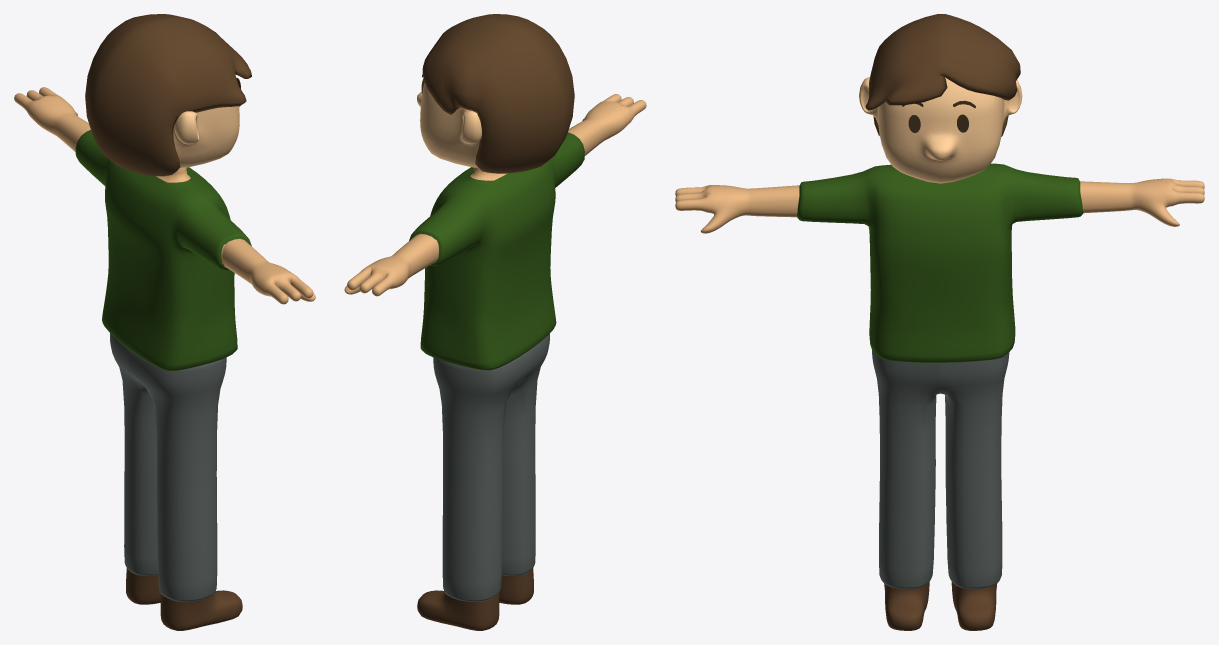
Rendered from ClientEChef (1).fbx.
3 views of the same model, side by side, from view 1: azimuth 30°, elevation 25°; view 2: azimuth 150°, elevation 25°; view 3: azimuth 270°, elevation 25° (orthographic).
Visible parts, largest first — view 1: Cylinder.002, Cube.005, Cube, Cube.001; view 2: Cylinder.002, Cube.005, Cube, Cube.001; view 3: Cylinder.002, Cube.005, Cube, Cube.001.
Boxes of the visible parts, <box> form: Cylinder.002: <box>14,87,315,370</box>; Cube.005: <box>110,333,242,630</box>; Cube: <box>85,14,251,176</box>; Cube.001: <box>173,105,240,167</box>; Cylinder.002: <box>344,94,646,370</box>; Cube.005: <box>417,334,549,630</box>; Cube: <box>422,14,574,173</box>; Cube.001: <box>417,82,481,167</box>; Cylinder.002: <box>675,163,1204,362</box>; Cube.005: <box>872,350,1009,630</box>; Cube: <box>865,14,1020,136</box>; Cube.001: <box>859,77,1022,183</box>.
Size of the model in its own units: 107 by 407 by 335.
